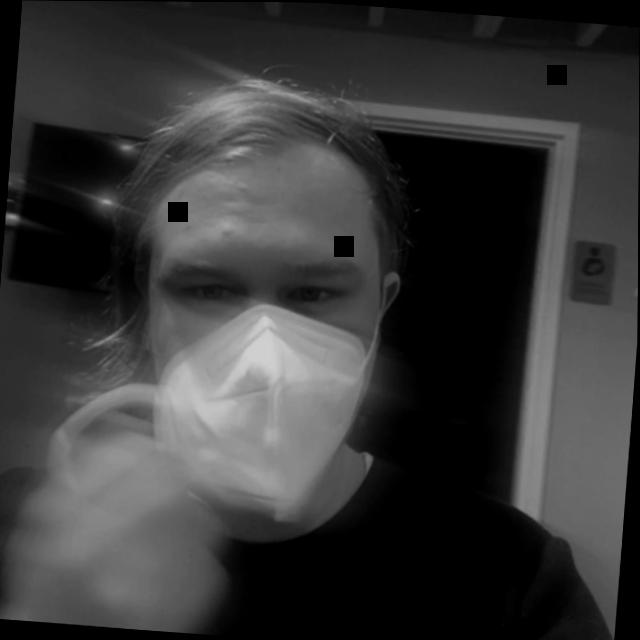Mask: (73, 68, 405, 562)
